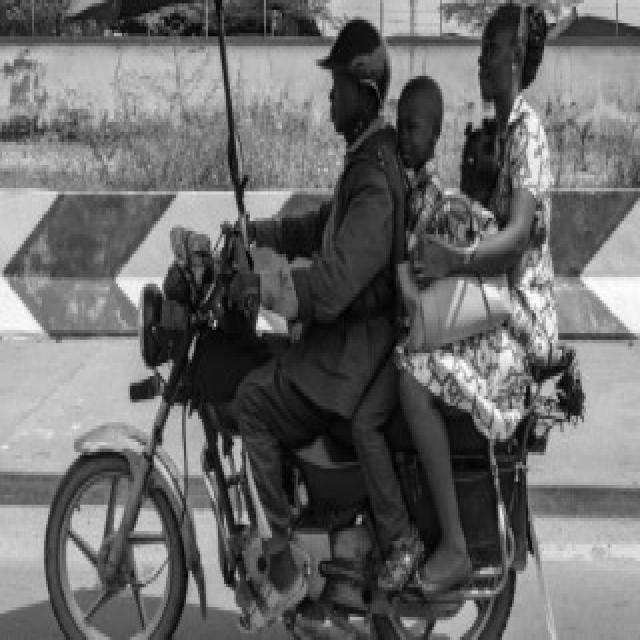Motorbike: (45, 4, 587, 640)
